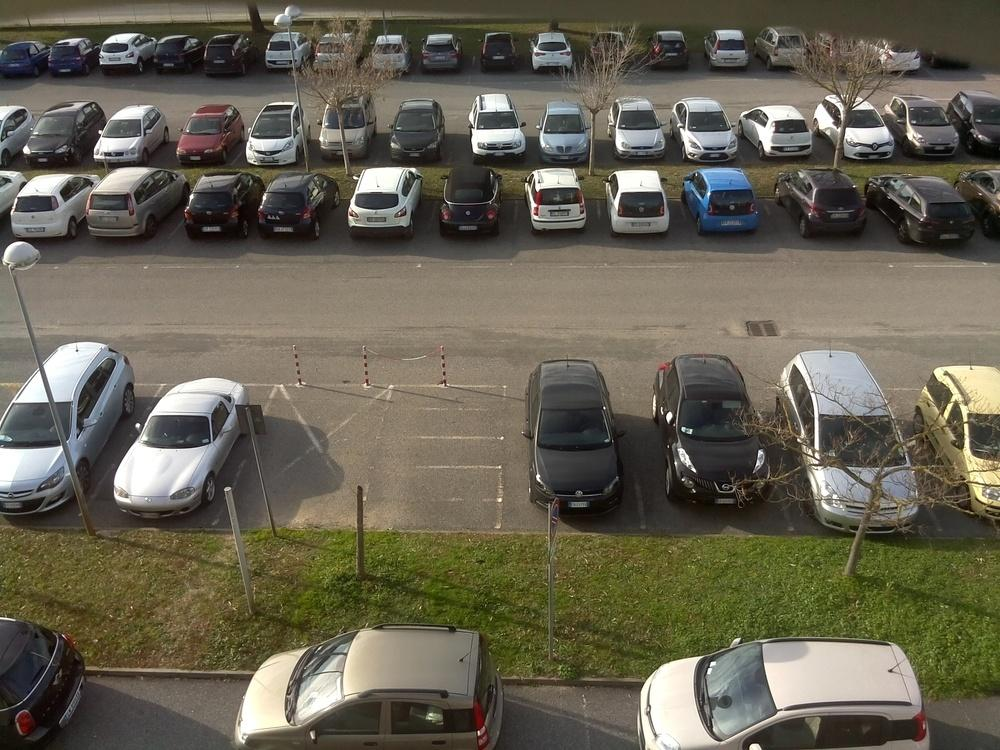empty: (641, 638, 945, 750), (238, 628, 509, 749), (0, 335, 135, 515), (108, 375, 260, 521), (651, 350, 788, 504), (525, 356, 639, 514), (781, 356, 914, 463), (4, 619, 87, 742), (871, 174, 987, 250), (929, 369, 997, 487), (780, 170, 878, 241), (82, 171, 180, 239), (339, 163, 424, 241), (683, 168, 773, 238), (251, 174, 342, 243), (7, 173, 90, 243), (600, 171, 684, 240), (431, 169, 511, 240), (178, 174, 257, 242), (92, 104, 173, 169), (670, 94, 749, 160), (521, 169, 596, 236), (890, 95, 969, 157), (21, 107, 101, 168), (462, 92, 534, 159), (171, 108, 248, 168), (383, 101, 454, 166), (604, 100, 672, 164), (742, 110, 824, 163), (240, 107, 311, 168), (830, 103, 900, 162), (533, 104, 601, 164), (314, 103, 376, 161), (954, 97, 1000, 155), (700, 28, 760, 72), (528, 33, 586, 77), (202, 35, 260, 79), (759, 29, 818, 72), (413, 34, 471, 77), (641, 29, 699, 72), (313, 30, 366, 74), (968, 173, 1000, 244), (581, 31, 635, 73), (257, 34, 312, 75), (42, 40, 98, 80), (152, 37, 206, 76), (94, 37, 149, 75), (368, 31, 415, 74), (0, 41, 48, 81), (475, 37, 525, 73), (868, 44, 930, 73), (2, 110, 30, 168)
